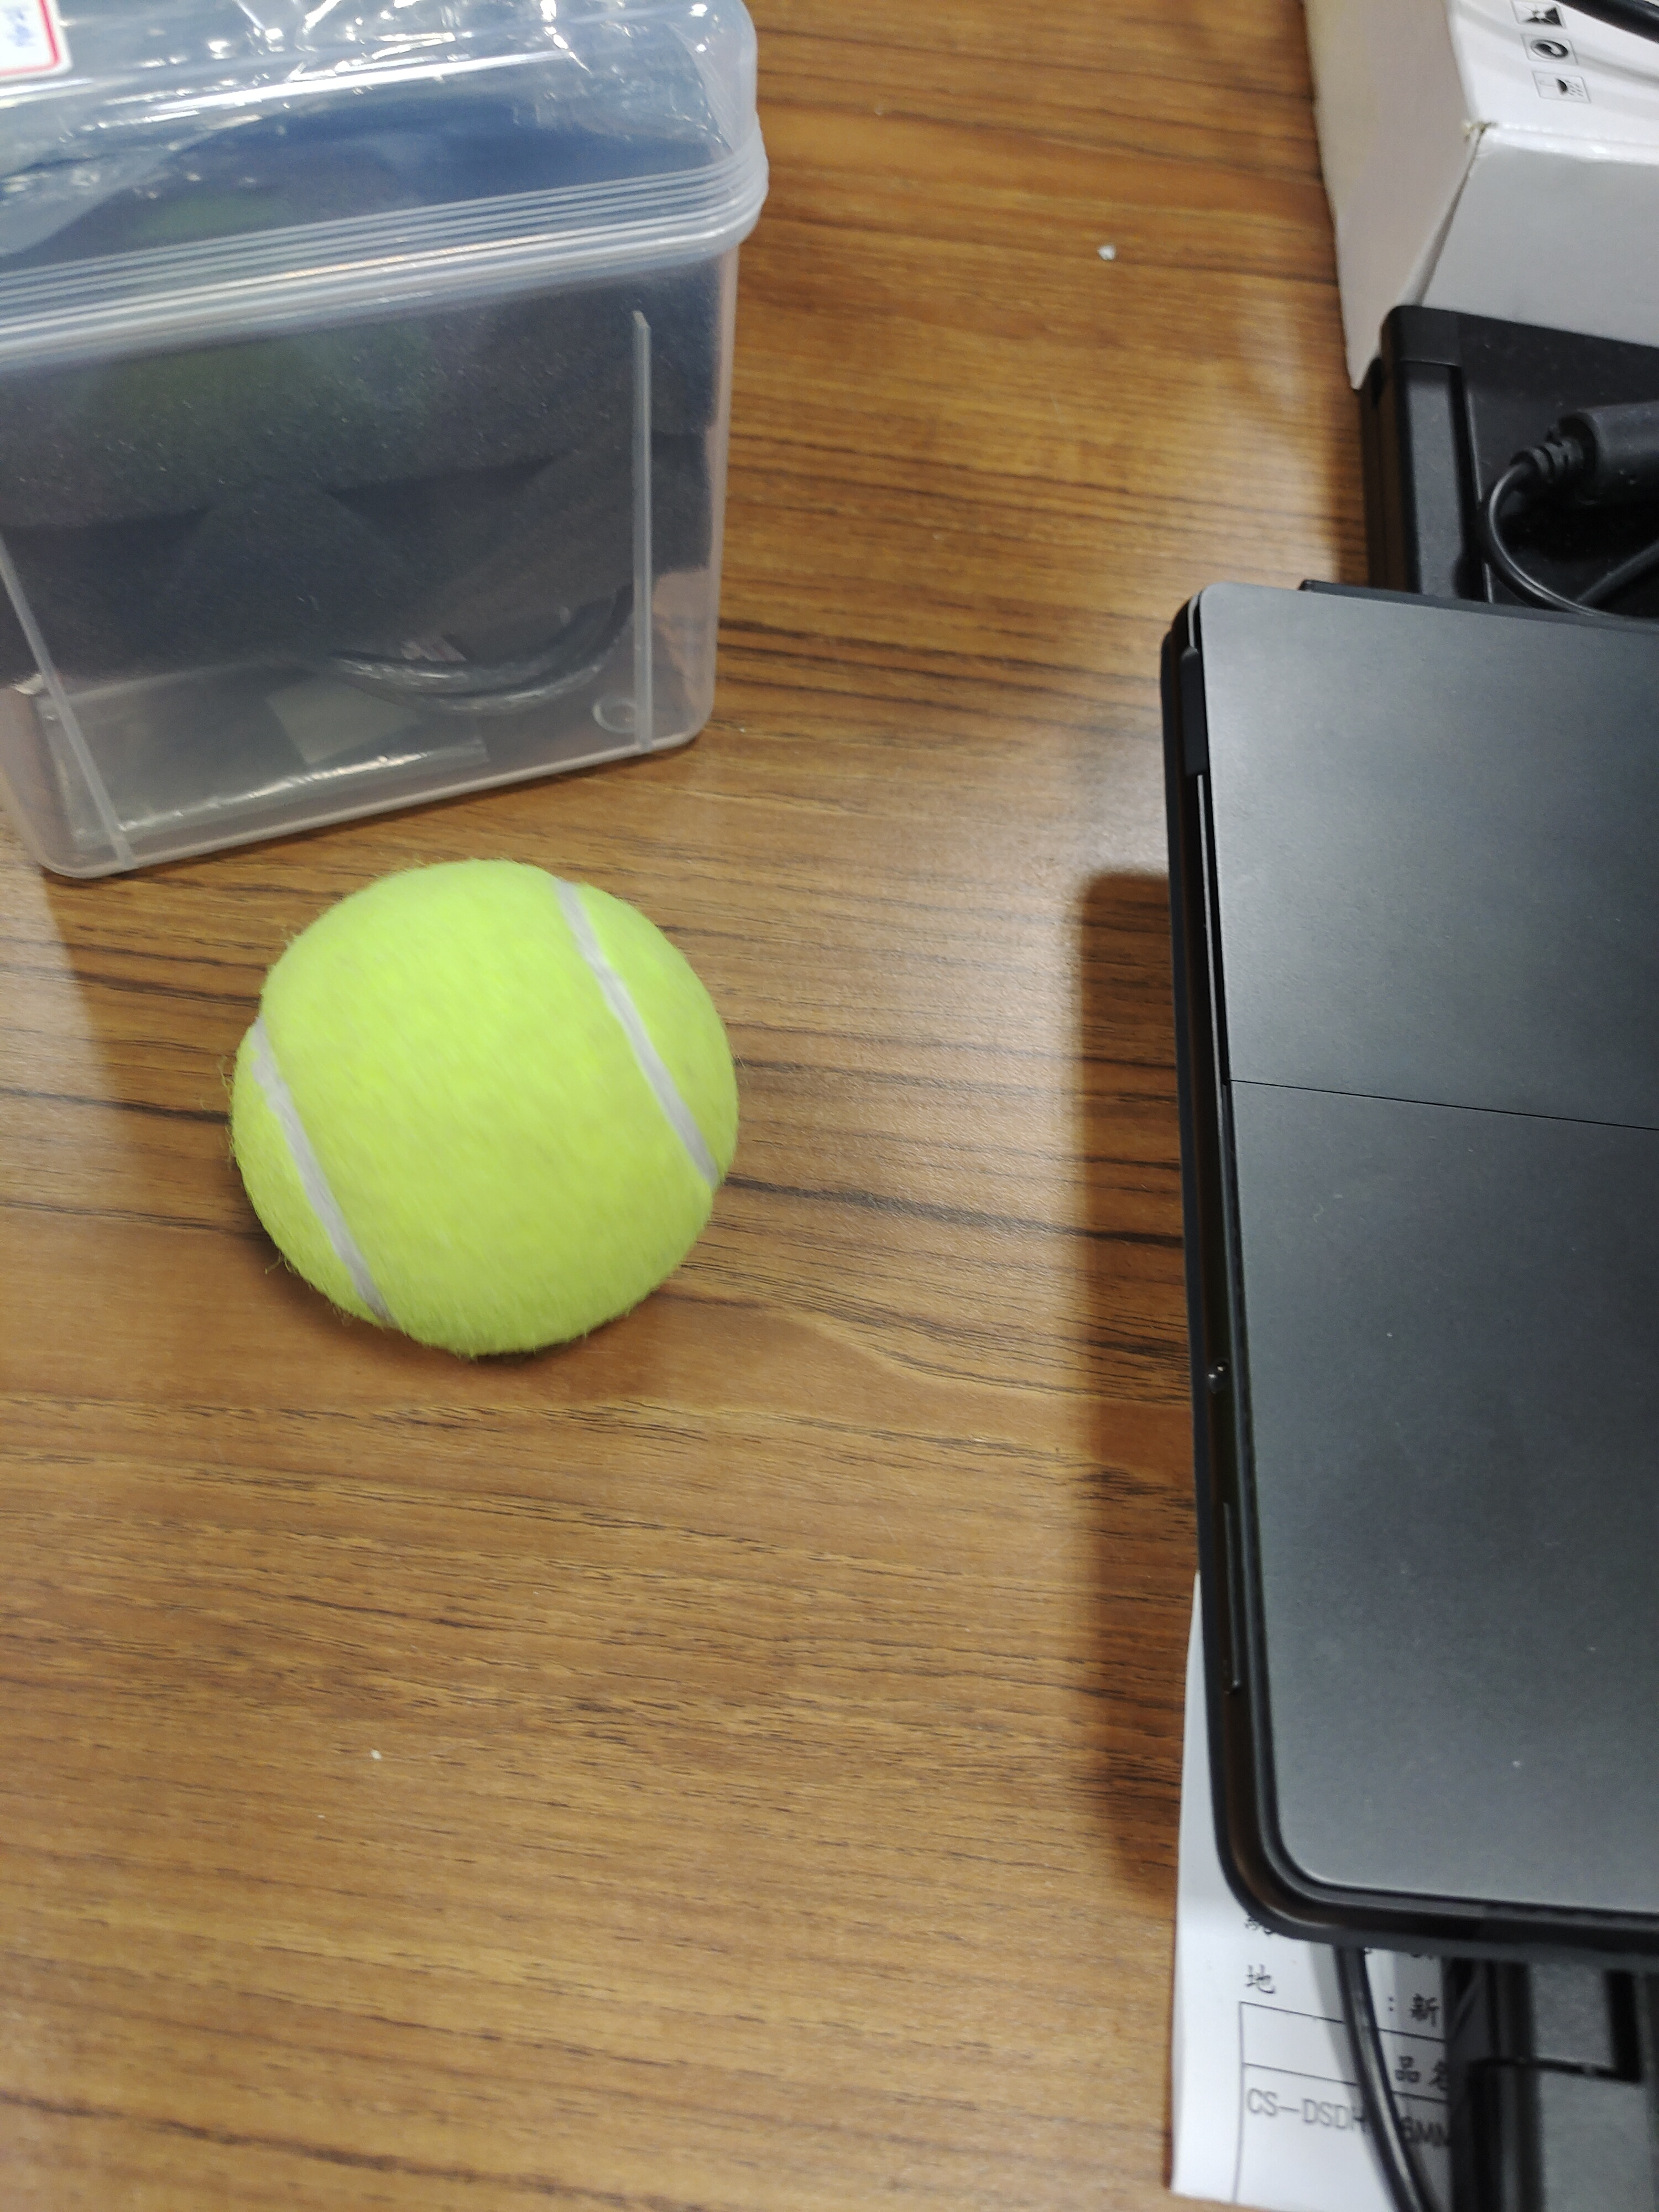tennis: (202, 855, 767, 1372)
